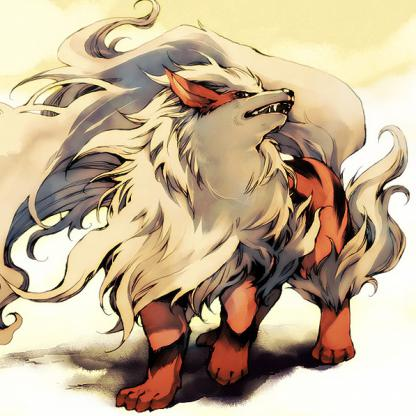Arcanine: (1, 38, 416, 402)
